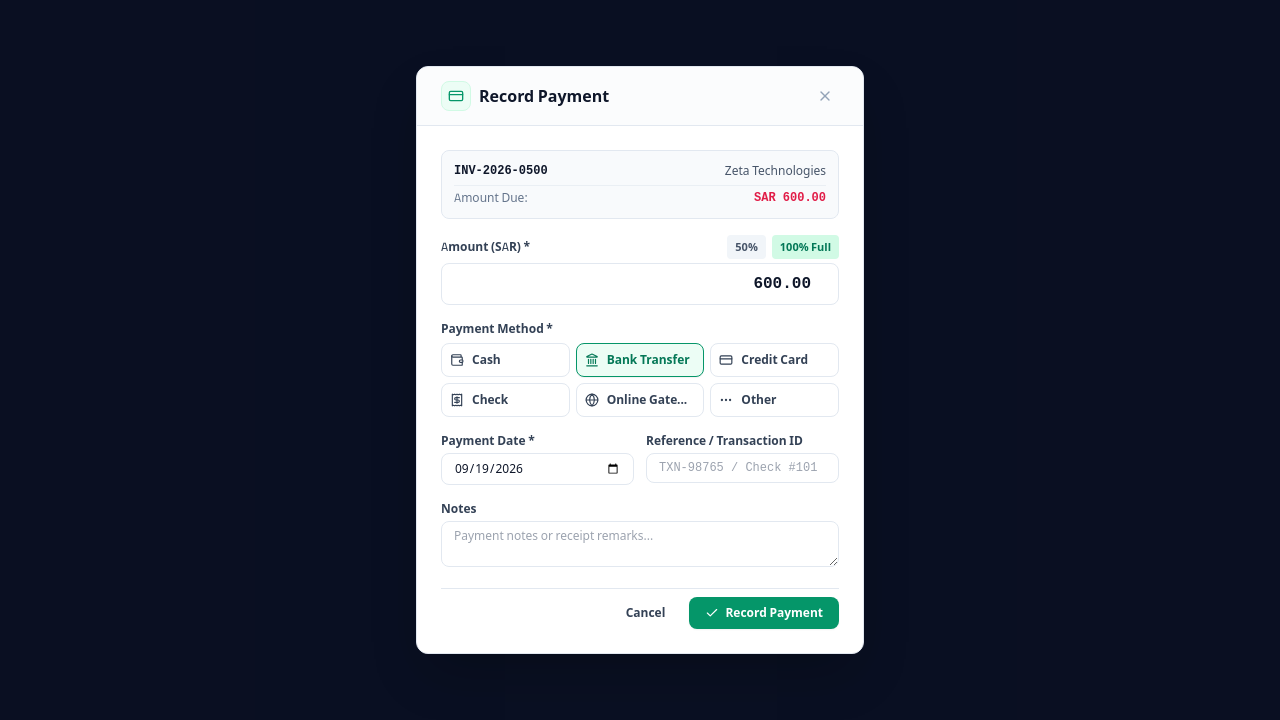
Scenario: Integration Test: PaymentModal Component (AC5 & Overpayment Validation) › verifies quick-fill "50%" and "100% Full" buttons calculate accurately
# Click 50%
Click the button "50%": (747, 247) [727,235,766,259]
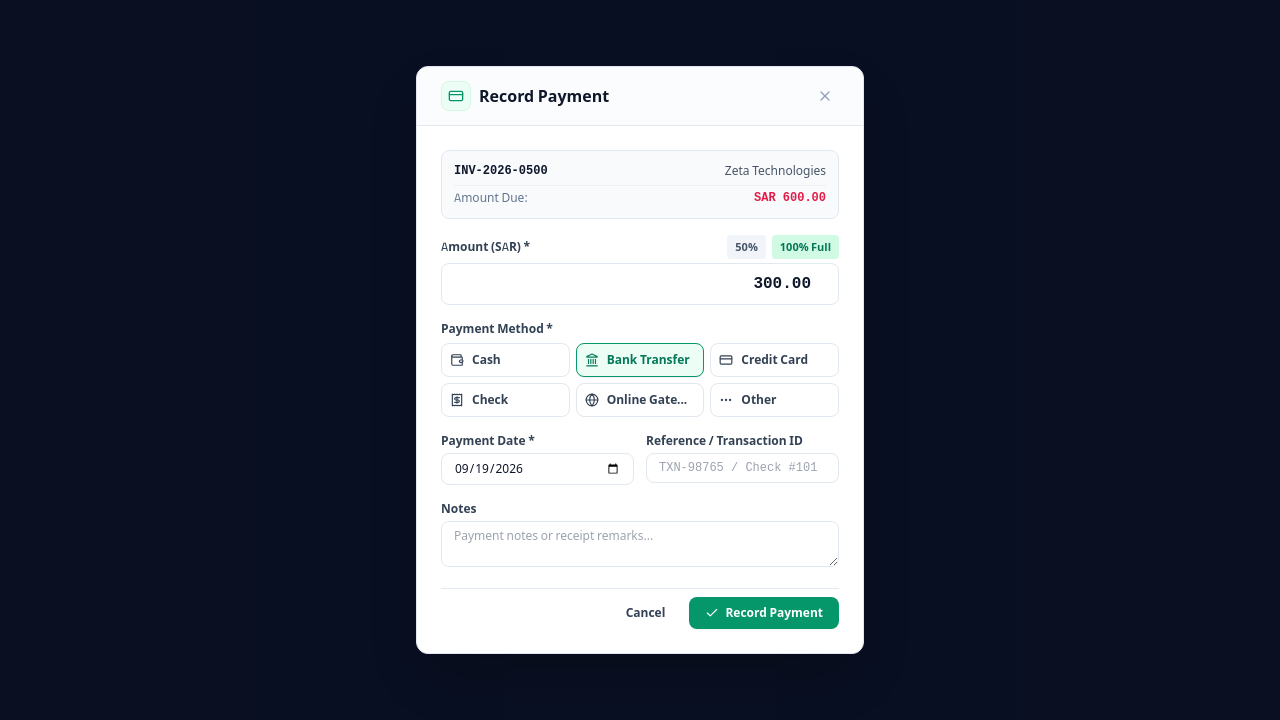
Result: the number field holds "300.00" at [441,263,839,305]
# Click 100% Full
Click the button "100% Full": (805, 247) [772,235,839,259]
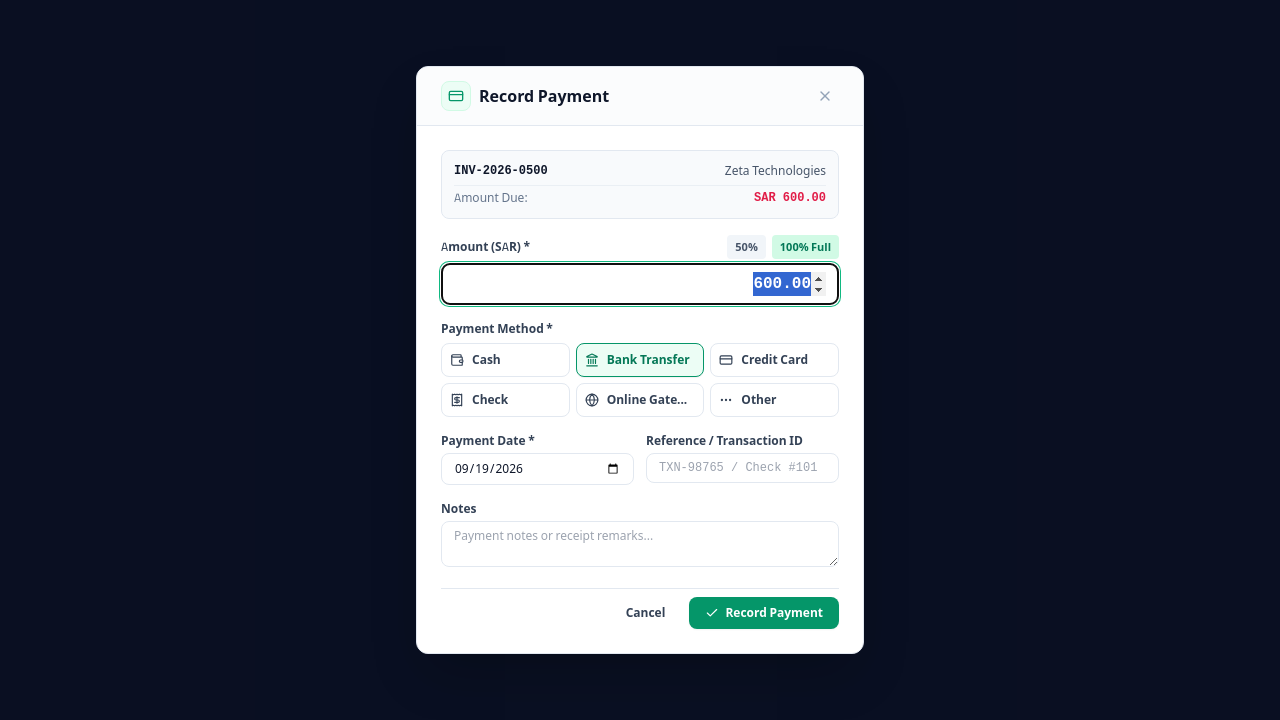
Result: the number field holds "600.00" at [441,263,839,305]
